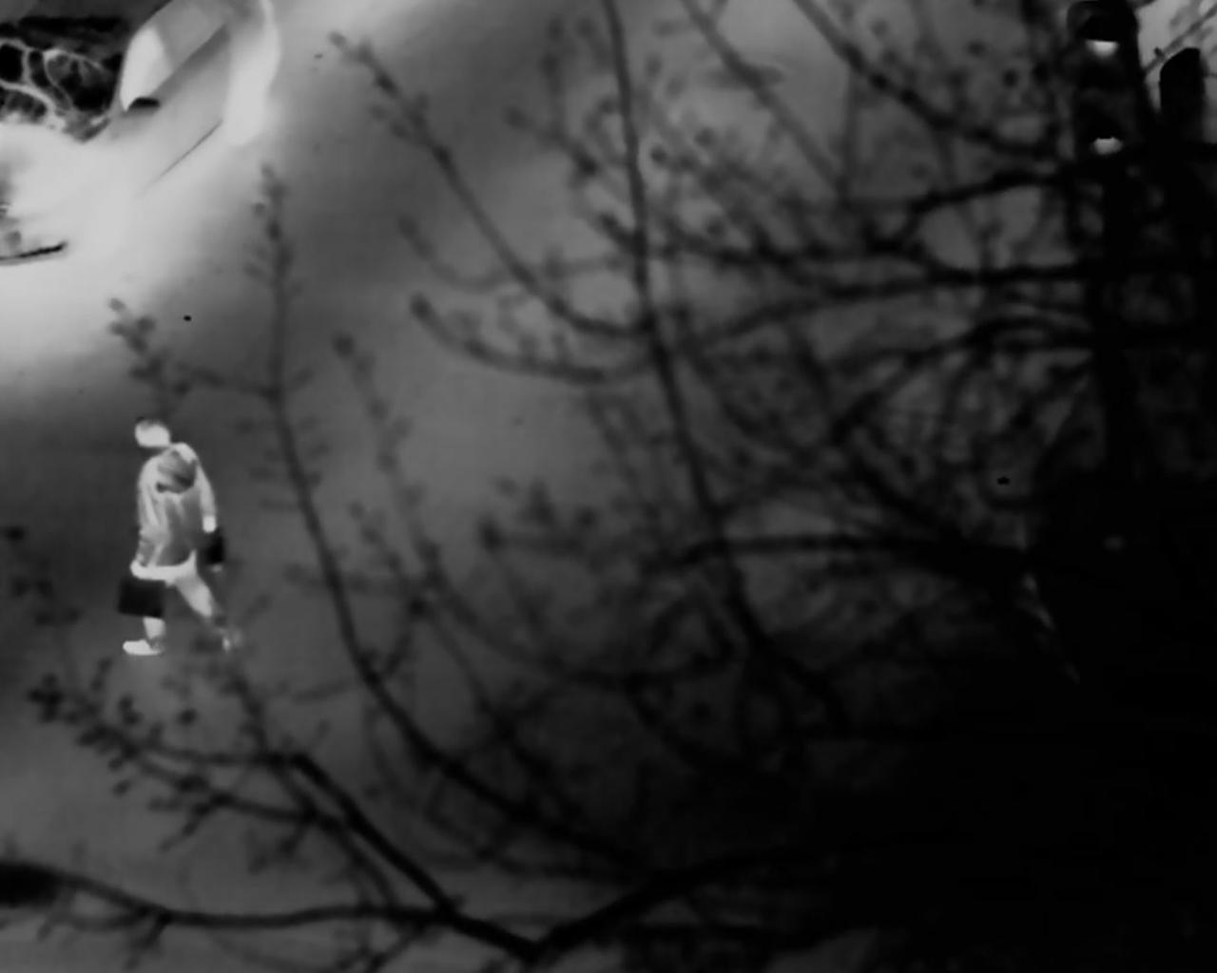person: (125, 416, 232, 650)
